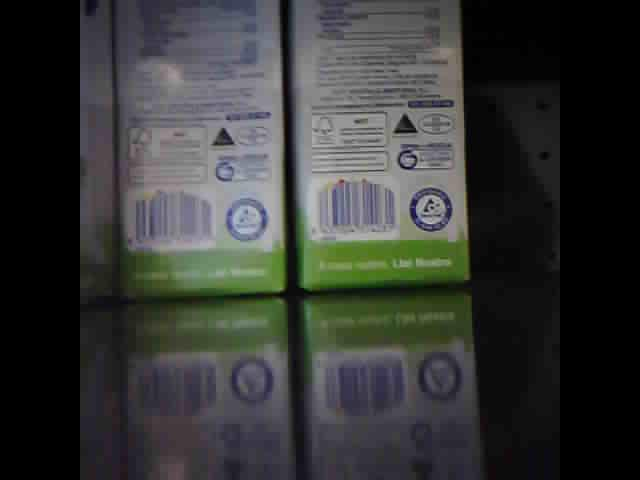leche: (295, 1, 466, 294), (121, 3, 285, 303), (80, 4, 114, 300)
